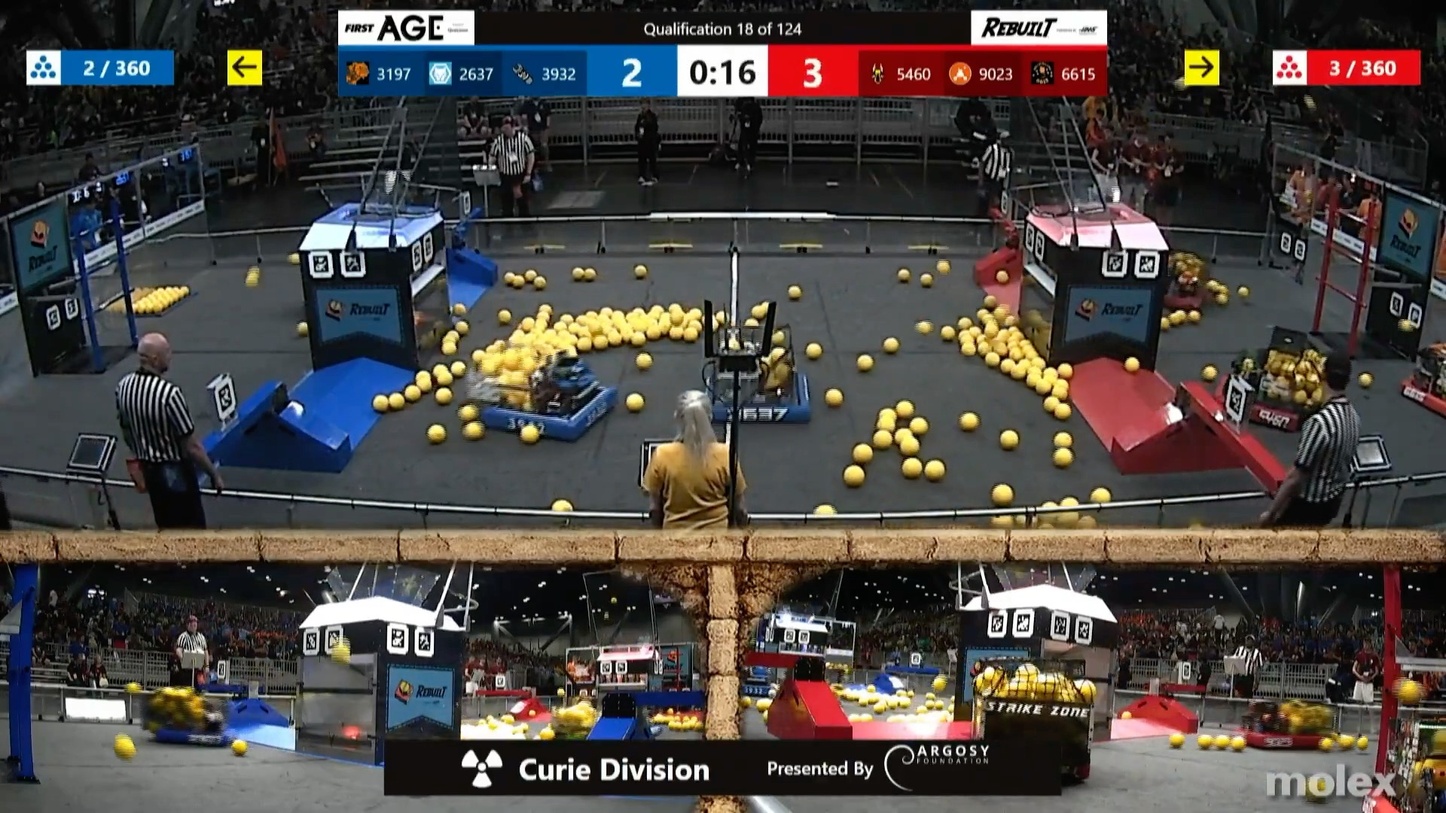bumpers: (1216, 364, 1352, 441), (472, 387, 629, 443), (705, 370, 819, 427), (1228, 717, 1327, 756), (149, 715, 243, 753), (1387, 367, 1446, 427), (1360, 782, 1444, 813), (1156, 287, 1219, 316)
